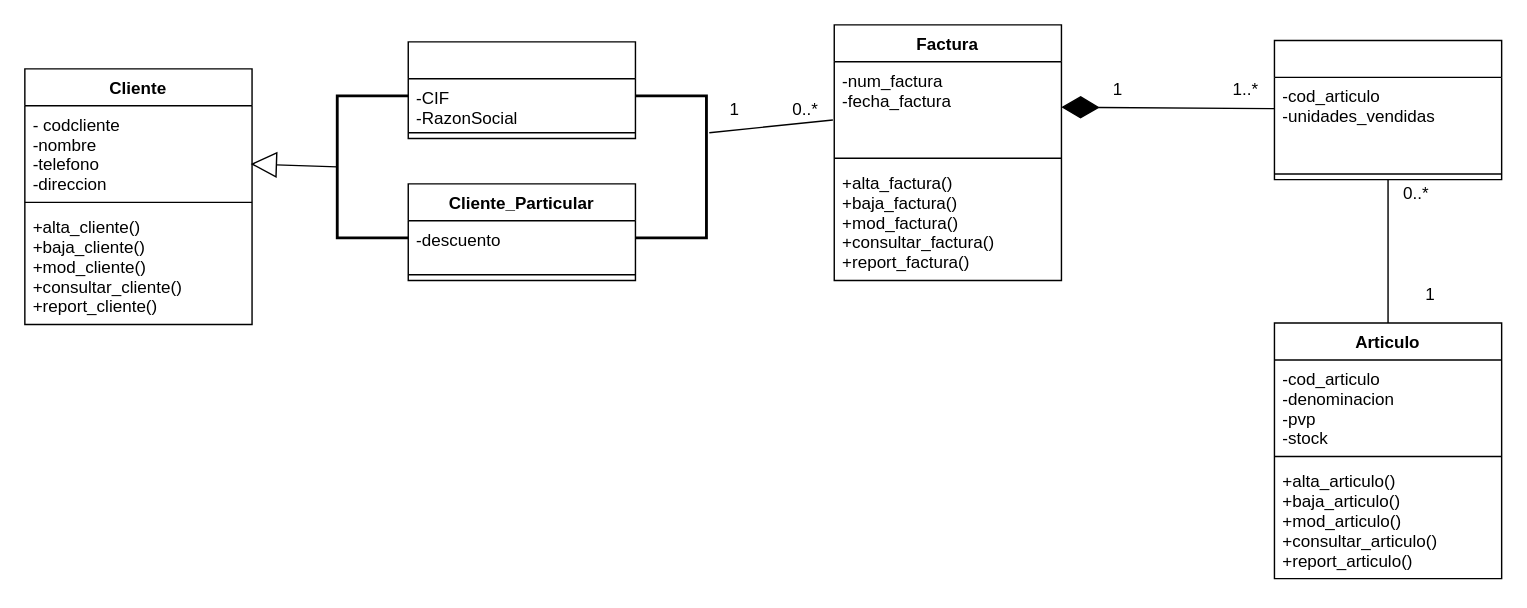
Some shapes in this 1527 by 608 pixel diagram are drawn without their labels. The shapes that lost their labels are listed below. From the top down, each one's box as (x1, y1, x2, y2) in pixels, then its label:
(407, 40, 635, 138): Cliente_Empresa
(1273, 39, 1502, 180): Lineas
